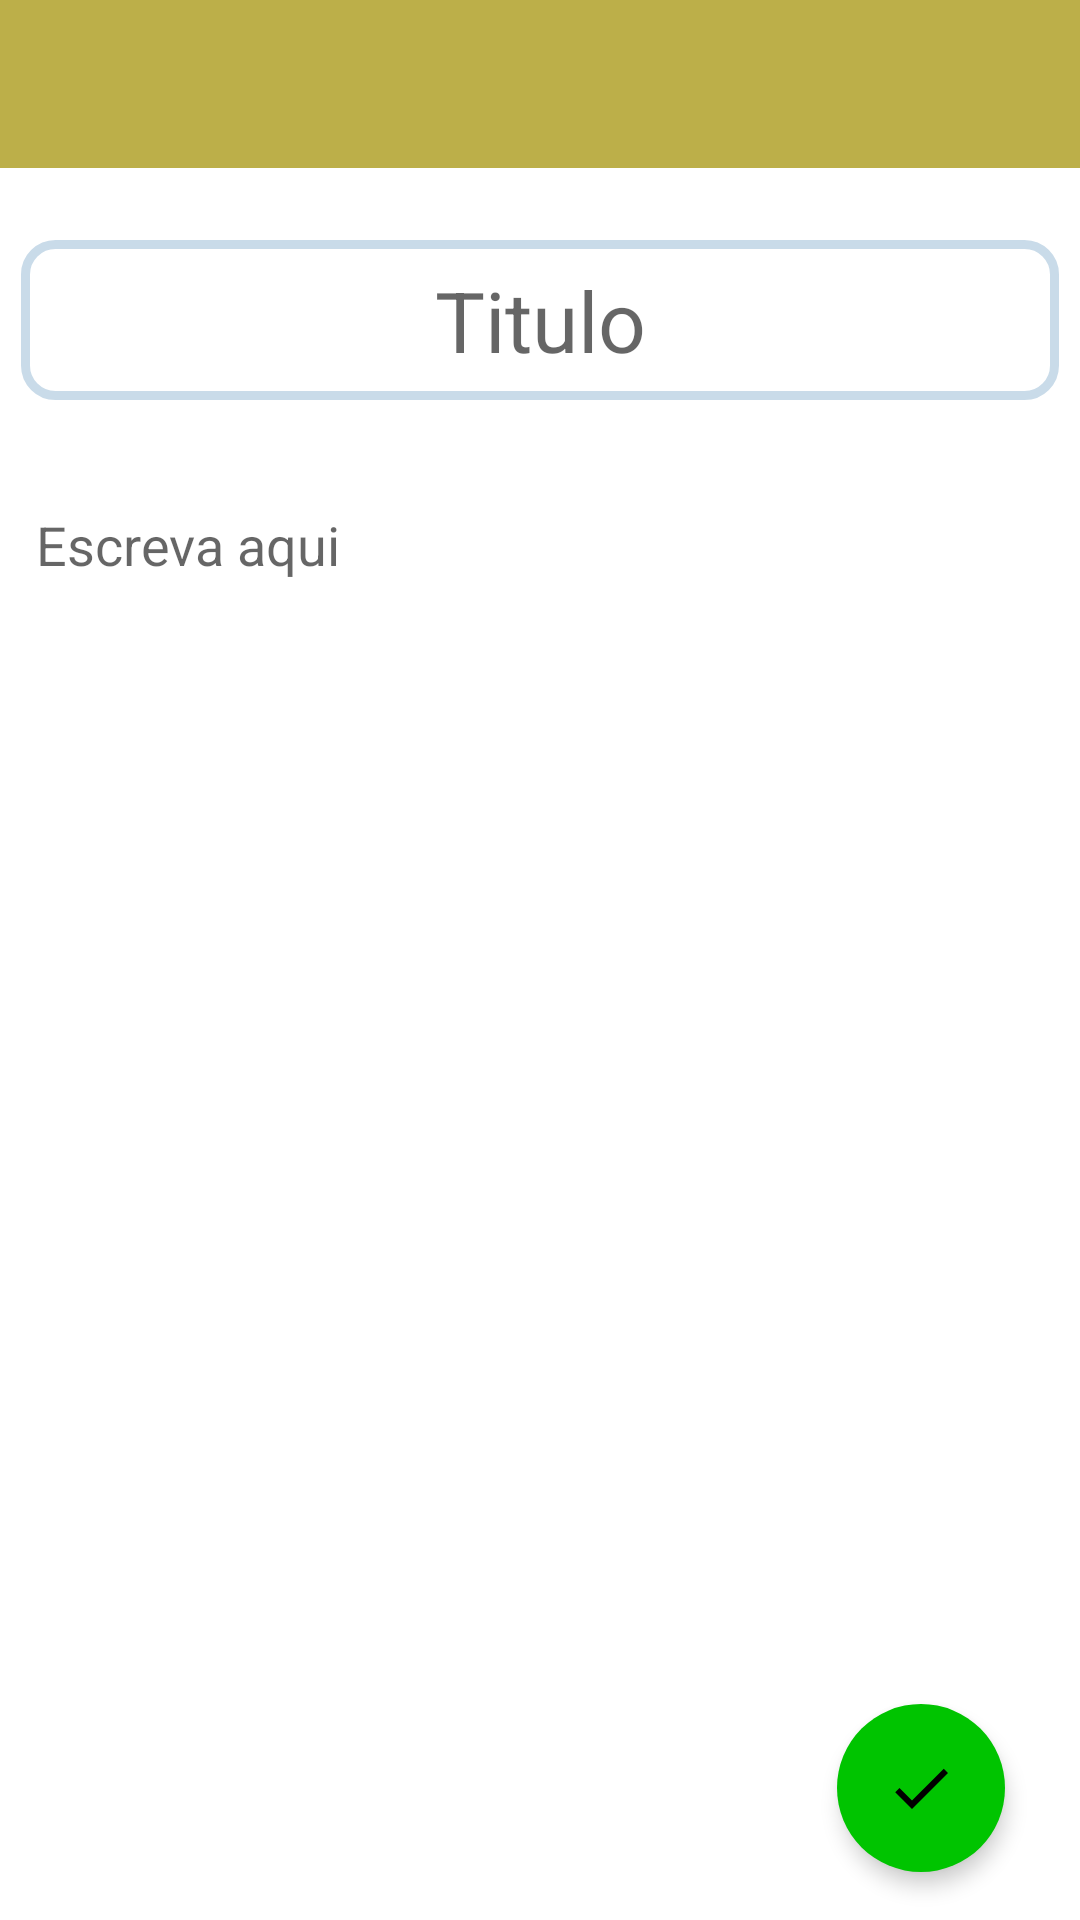

Icon bounding boxes for this 1080 x 1920 phone screenshot, format [x1,y1,x2,y2]:
check: [837,1704,1005,1872]
